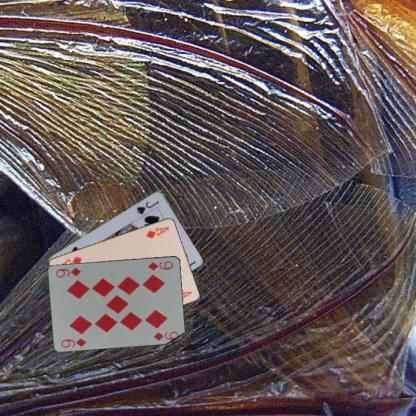9d: (146, 258, 174, 272), (58, 336, 87, 348)
Ad: (144, 224, 170, 239)
Js: (134, 198, 161, 216)
